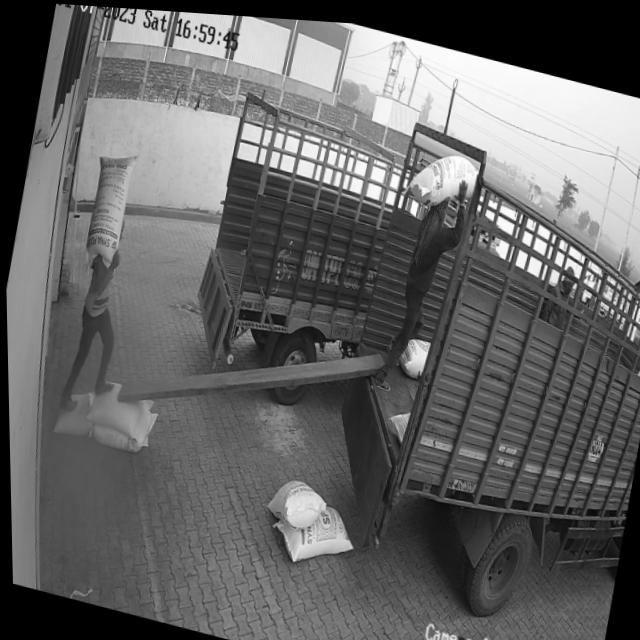sack: (263, 487, 358, 573), (77, 144, 136, 276), (405, 137, 480, 211), (80, 374, 154, 441), (262, 469, 328, 531), (86, 398, 156, 456), (49, 385, 96, 441)
